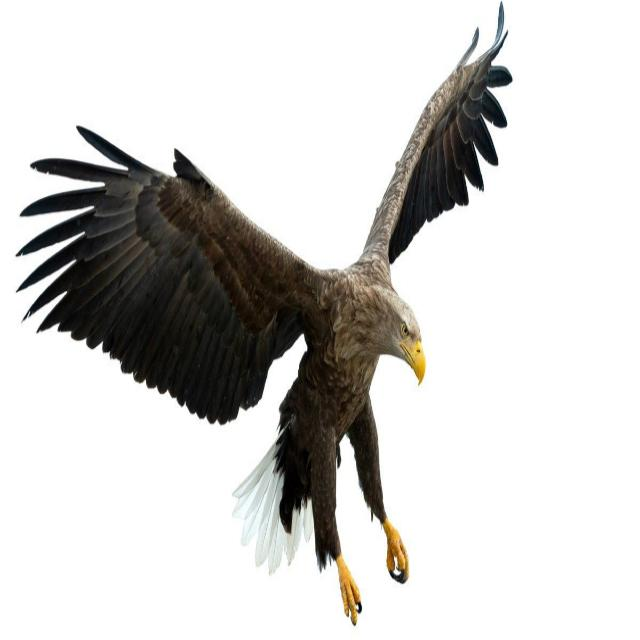Eagle: (25, 17, 511, 600)
